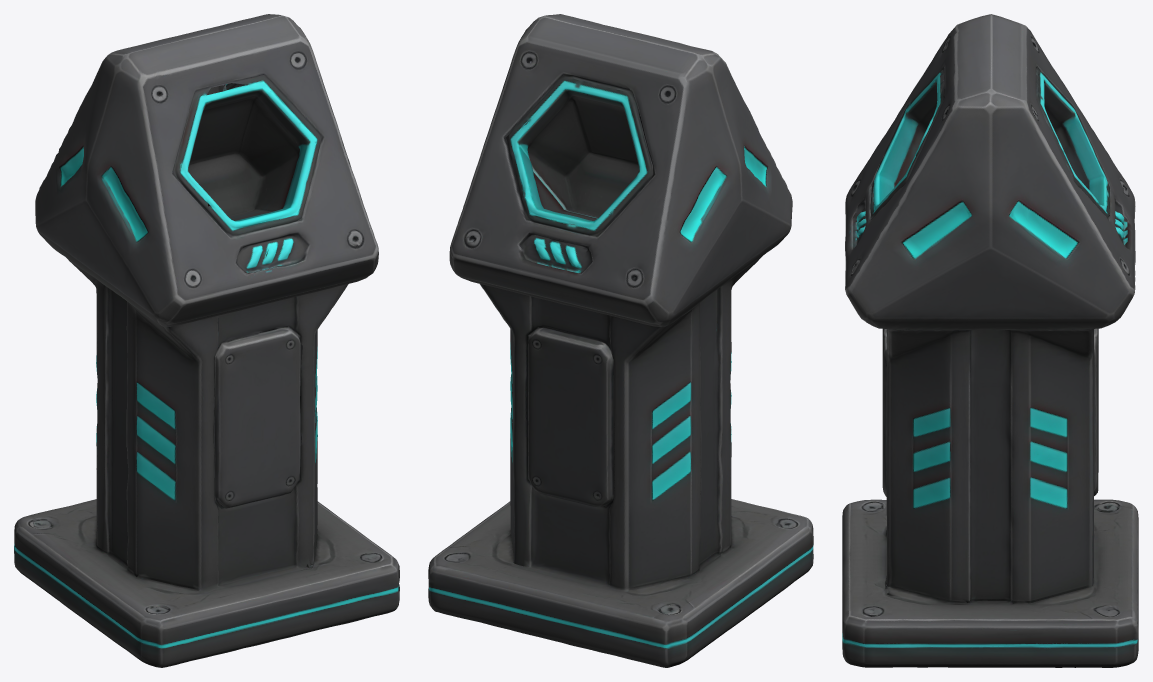
File: futuristic_device_3d_model.fbx
3 views of the same model, side by side, from view 1: azimuth 30°, elevation 25°; view 2: azimuth 150°, elevation 25°; view 3: azimuth 270°, elevation 25° (orthographic).
Parts seen in each view (by area): view 1: tripo_node_434e98d6; view 2: tripo_node_434e98d6; view 3: tripo_node_434e98d6.
Part boxes in pixels (<box>): tripo_node_434e98d6: <box>14,14,399,667</box>; tripo_node_434e98d6: <box>428,14,813,667</box>; tripo_node_434e98d6: <box>842,14,1138,667</box>.
Size of the model in its own units: 47.94 by 97.83 by 47.21.
Materials: 1 (1 with a texture image).
